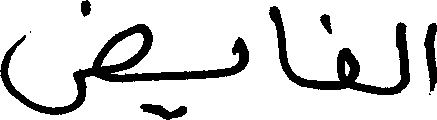ا: (268, 4, 295, 84), (421, 21, 435, 96)
ض: (0, 0, 154, 116)
ف: (318, 10, 361, 92)
ل: (393, 20, 408, 95)
ي: (145, 34, 249, 116)
